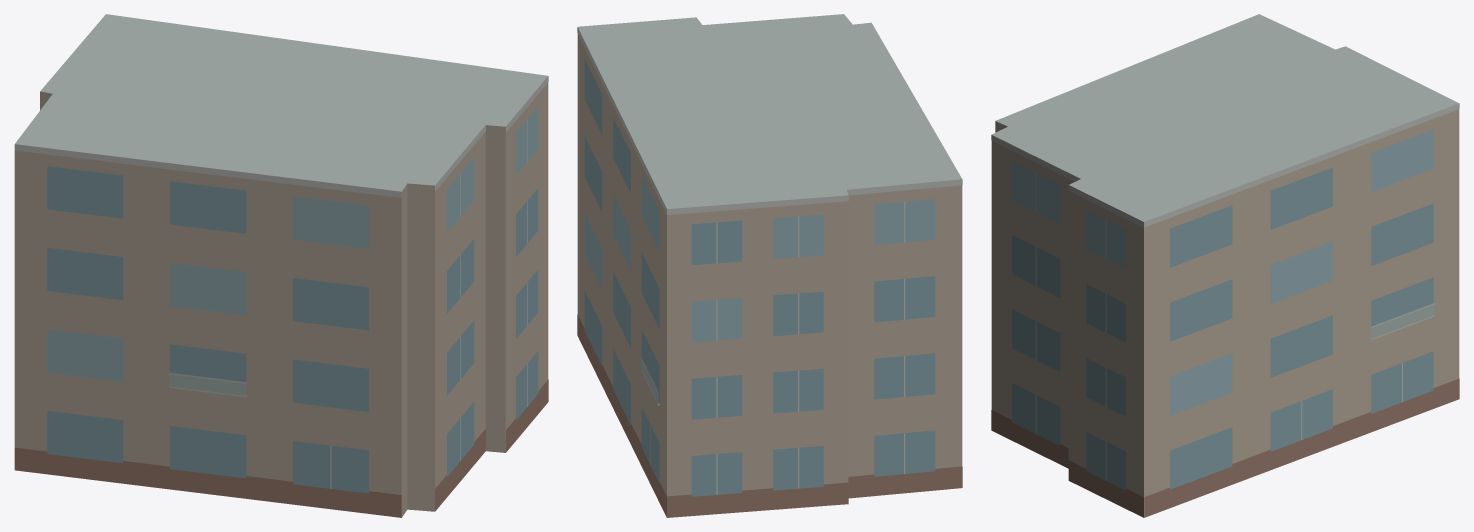
The model's file is survey-upis-32871572.glb.
The picture shows the model from 3 angles, left to right: view 1: azimuth 30°, elevation 25°; view 2: azimuth 150°, elevation 25°; view 3: azimuth 270°, elevation 25°; orthographic projection. The views are drawn at different scales.
Visible parts, largest first — view 1: survey-upis-32871572.tmp; view 2: survey-upis-32871572.tmp; view 3: survey-upis-32871572.tmp.
Part boxes in pixels (x1,y1,x2,y2): survey-upis-32871572.tmp: (14, 14, 548, 517); survey-upis-32871572.tmp: (577, 14, 962, 517); survey-upis-32871572.tmp: (991, 14, 1459, 517).
Bounding box in the file's own units: 19.17 × 12.7 × 18.22.
